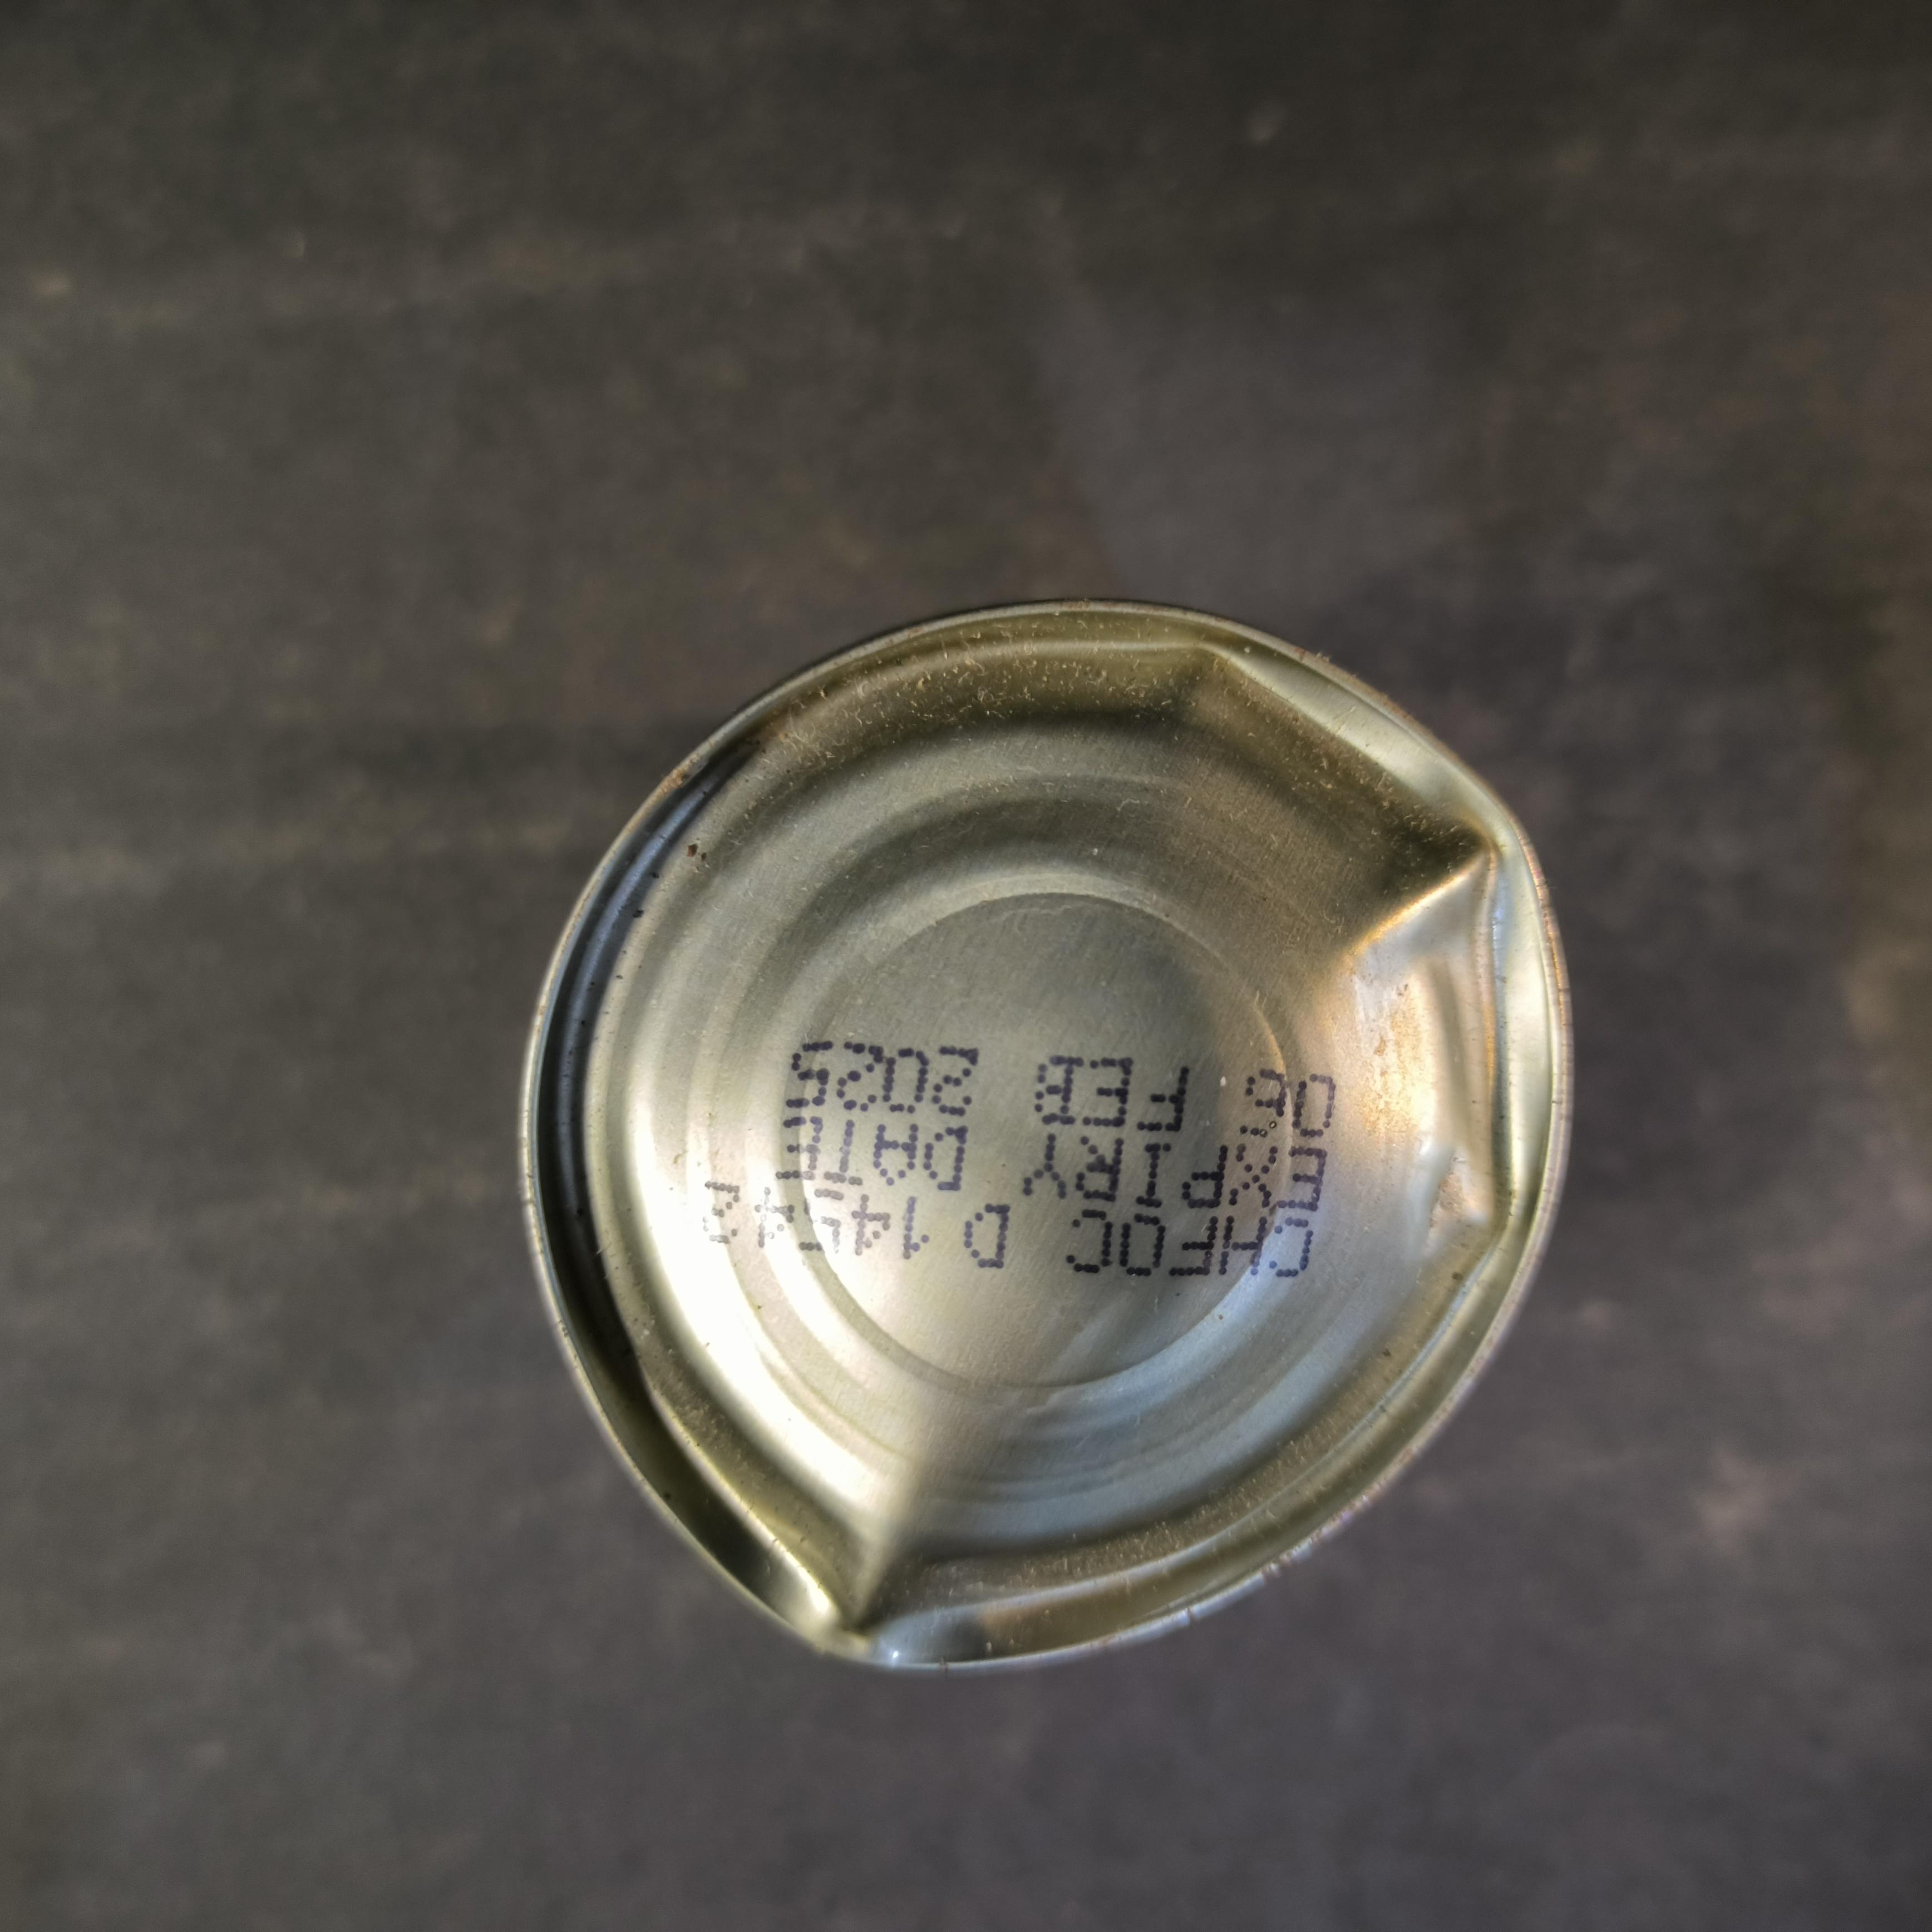Critical Defect: (515, 596, 1580, 1681)
